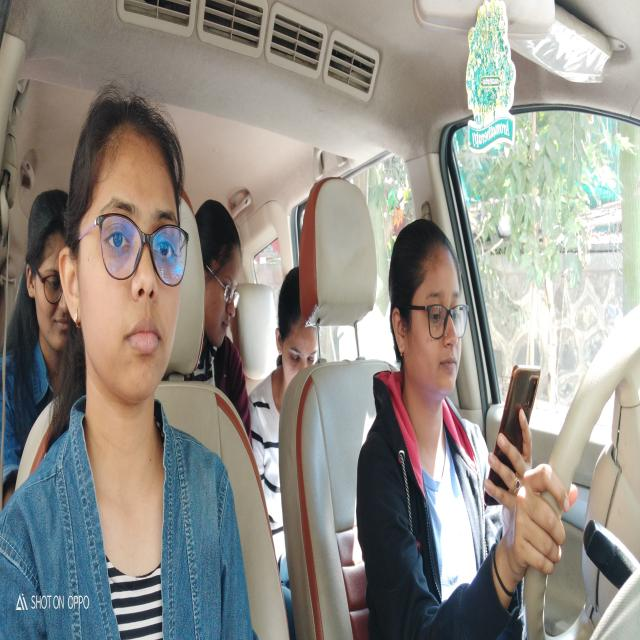mobile: (482, 360, 540, 508)
person: (62, 89, 186, 409), (391, 227, 467, 395), (198, 186, 238, 357), (24, 202, 70, 348), (281, 261, 321, 389)
